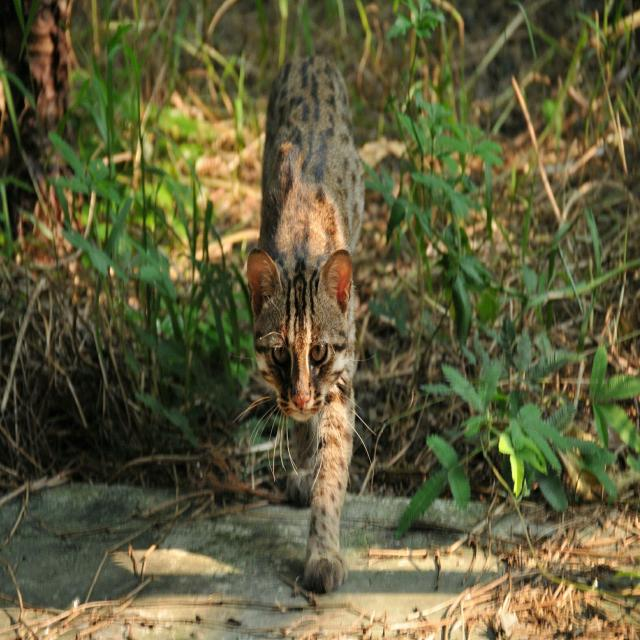leopard: (278, 69, 348, 534), (248, 254, 348, 432)
